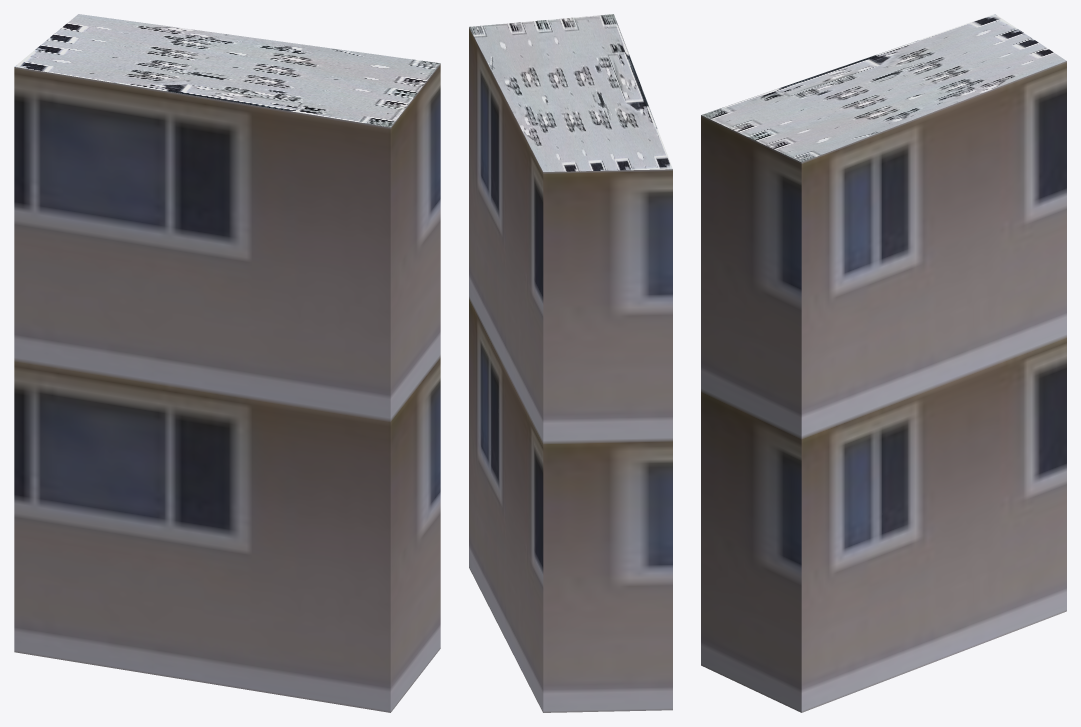
Rendered from ResTex__3078.fbx.
The picture shows the model from 3 angles, left to right: view 1: azimuth 30°, elevation 25°; view 2: azimuth 150°, elevation 25°; view 3: azimuth 270°, elevation 25°; orthographic projection. The views are drawn at different scales.
Parts seen in each view (by area): view 1: CityEngineMaterial_21_m, CityEngineMaterial_2_m; view 2: CityEngineMaterial_21_m, CityEngineMaterial_2_m; view 3: CityEngineMaterial_21_m, CityEngineMaterial_2_m.
Boxes of the visible parts, <box> form: CityEngineMaterial_21_m: <box>14,63,440,712</box>; CityEngineMaterial_2_m: <box>14,14,440,127</box>; CityEngineMaterial_21_m: <box>469,27,672,712</box>; CityEngineMaterial_2_m: <box>469,14,672,171</box>; CityEngineMaterial_21_m: <box>701,61,1066,712</box>; CityEngineMaterial_2_m: <box>701,14,1066,162</box>.
Size of the model in its own units: 3.47 by 6 by 3.61.
2 materials, 2 textured.
